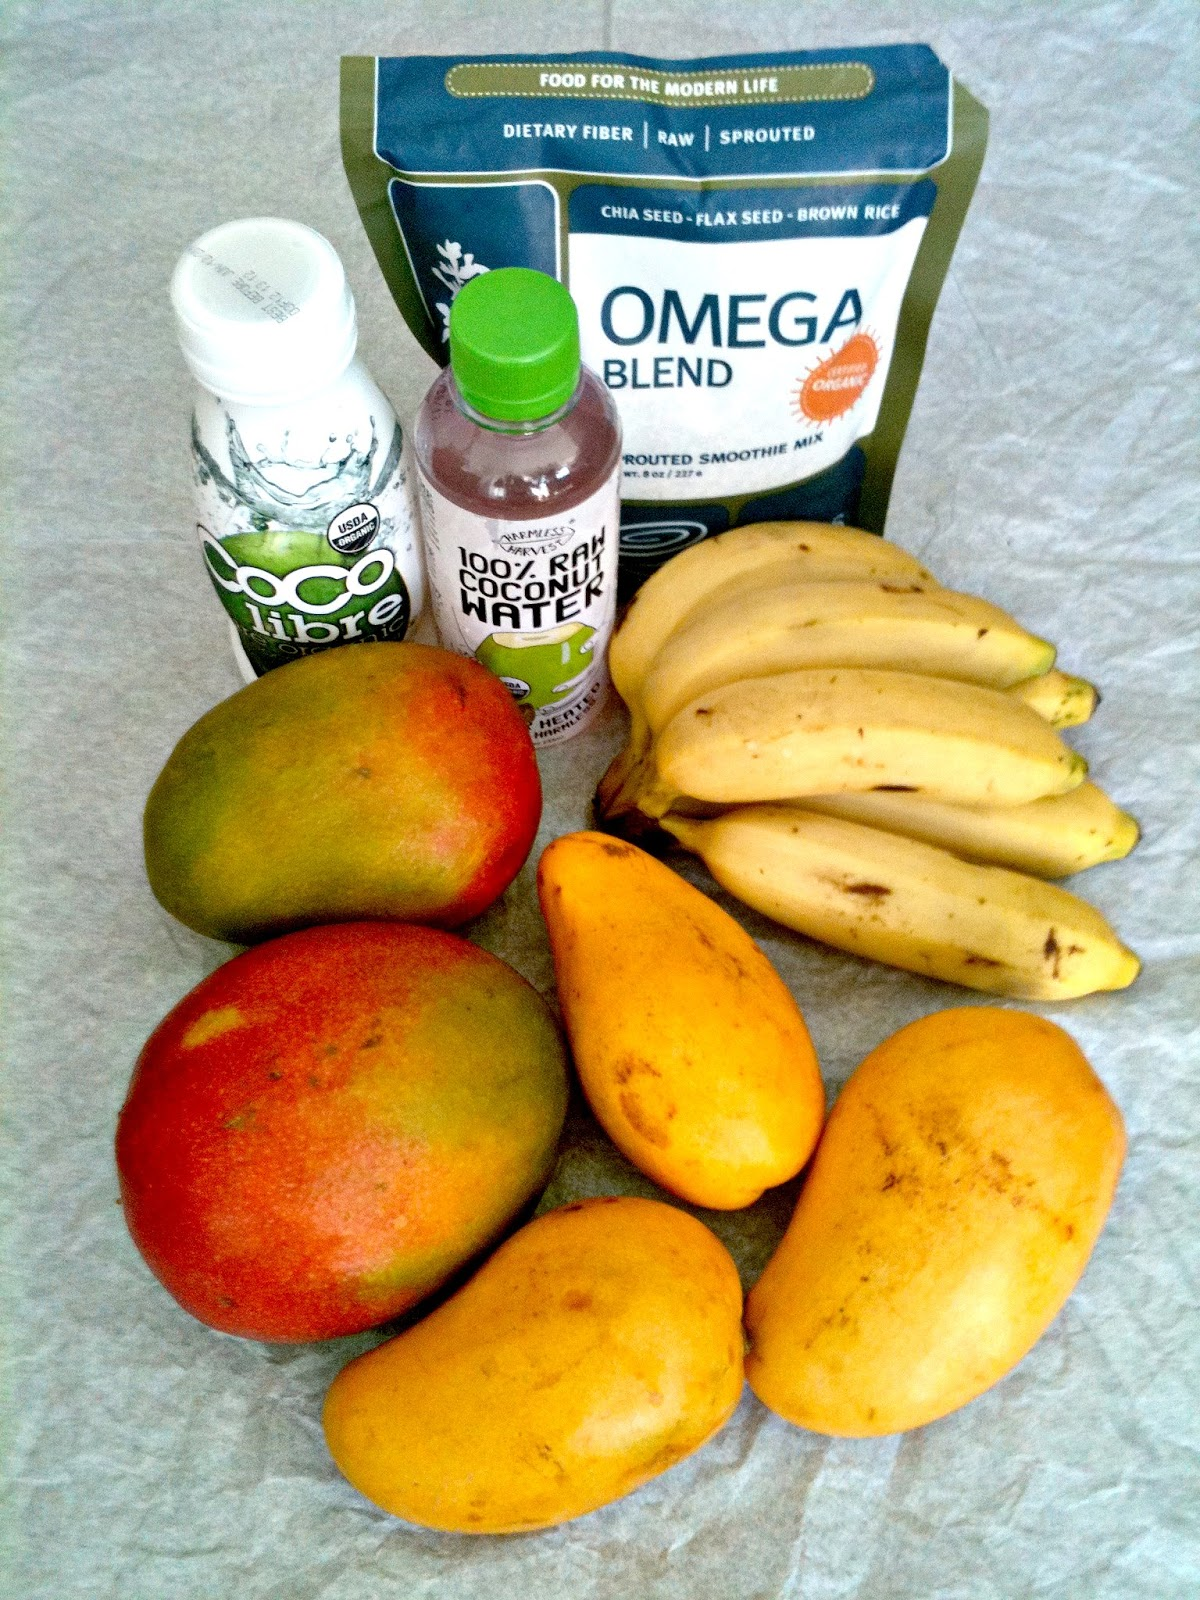mango: (117, 930, 579, 1330), (764, 1010, 1141, 1460), (129, 639, 563, 906), (338, 1267, 713, 1574), (536, 825, 822, 1197), (258, 1383, 782, 1557)
